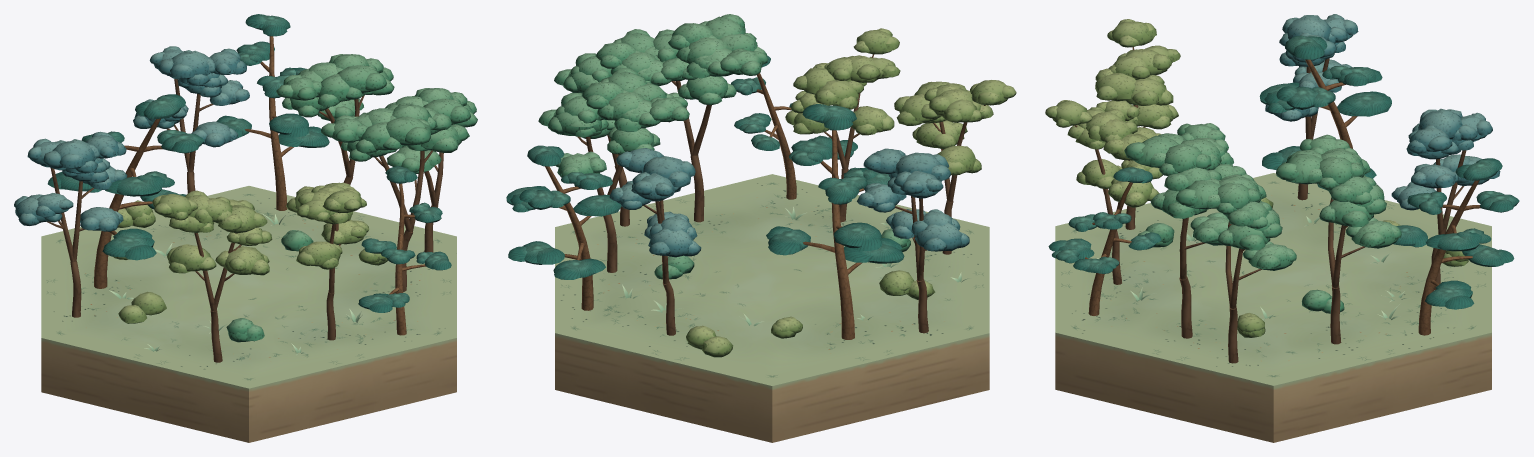
File: Hex_Forest.glb
3 views of the same model, side by side, from view 1: azimuth 30°, elevation 25°; view 2: azimuth 150°, elevation 25°; view 3: azimuth 270°, elevation 25° (orthographic). The views are drawn at different scales.
Parts seen in each view (by area): view 1: Hex_Forest; view 2: Hex_Forest; view 3: Hex_Forest.
Part boxes in pixels (left/top/right/bottom): Hex_Forest: left=14, top=14, right=477, bottom=442; Hex_Forest: left=506, top=14, right=1016, bottom=442; Hex_Forest: left=1045, top=14, right=1519, bottom=442.
Bounding box in the file's own units: 8.18 × 4.56 × 7.53.
Materials: 2 (2 with a texture image).
